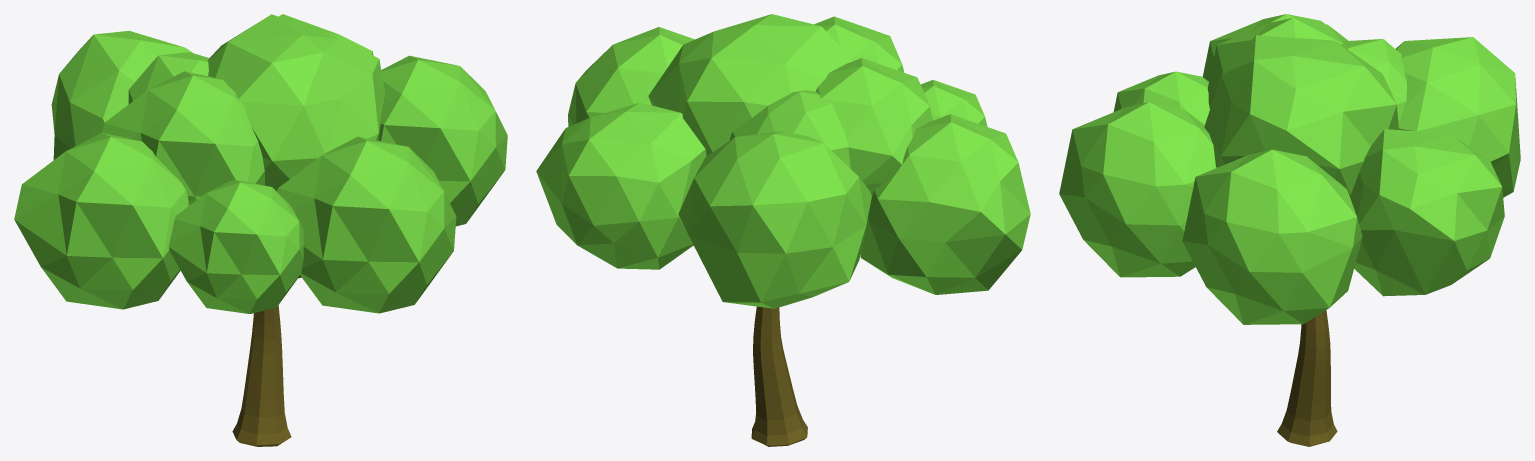
Rendered from tree.glb.
3 views of the same model, side by side, from view 1: azimuth 30°, elevation 25°; view 2: azimuth 150°, elevation 25°; view 3: azimuth 270°, elevation 25° (orthographic).
Parts seen in each view (by area): view 1: Plane; view 2: Plane; view 3: Plane.
Boxes of the visible parts, x1=… form: Plane: x1=14, y1=14, x2=507, y2=446; Plane: x1=536, y1=14, x2=1030, y2=446; Plane: x1=1059, y1=14, x2=1520, y2=446.
Size of the model in its own units: 9.09 by 7.68 by 8.11.
1 material, 1 textured.
